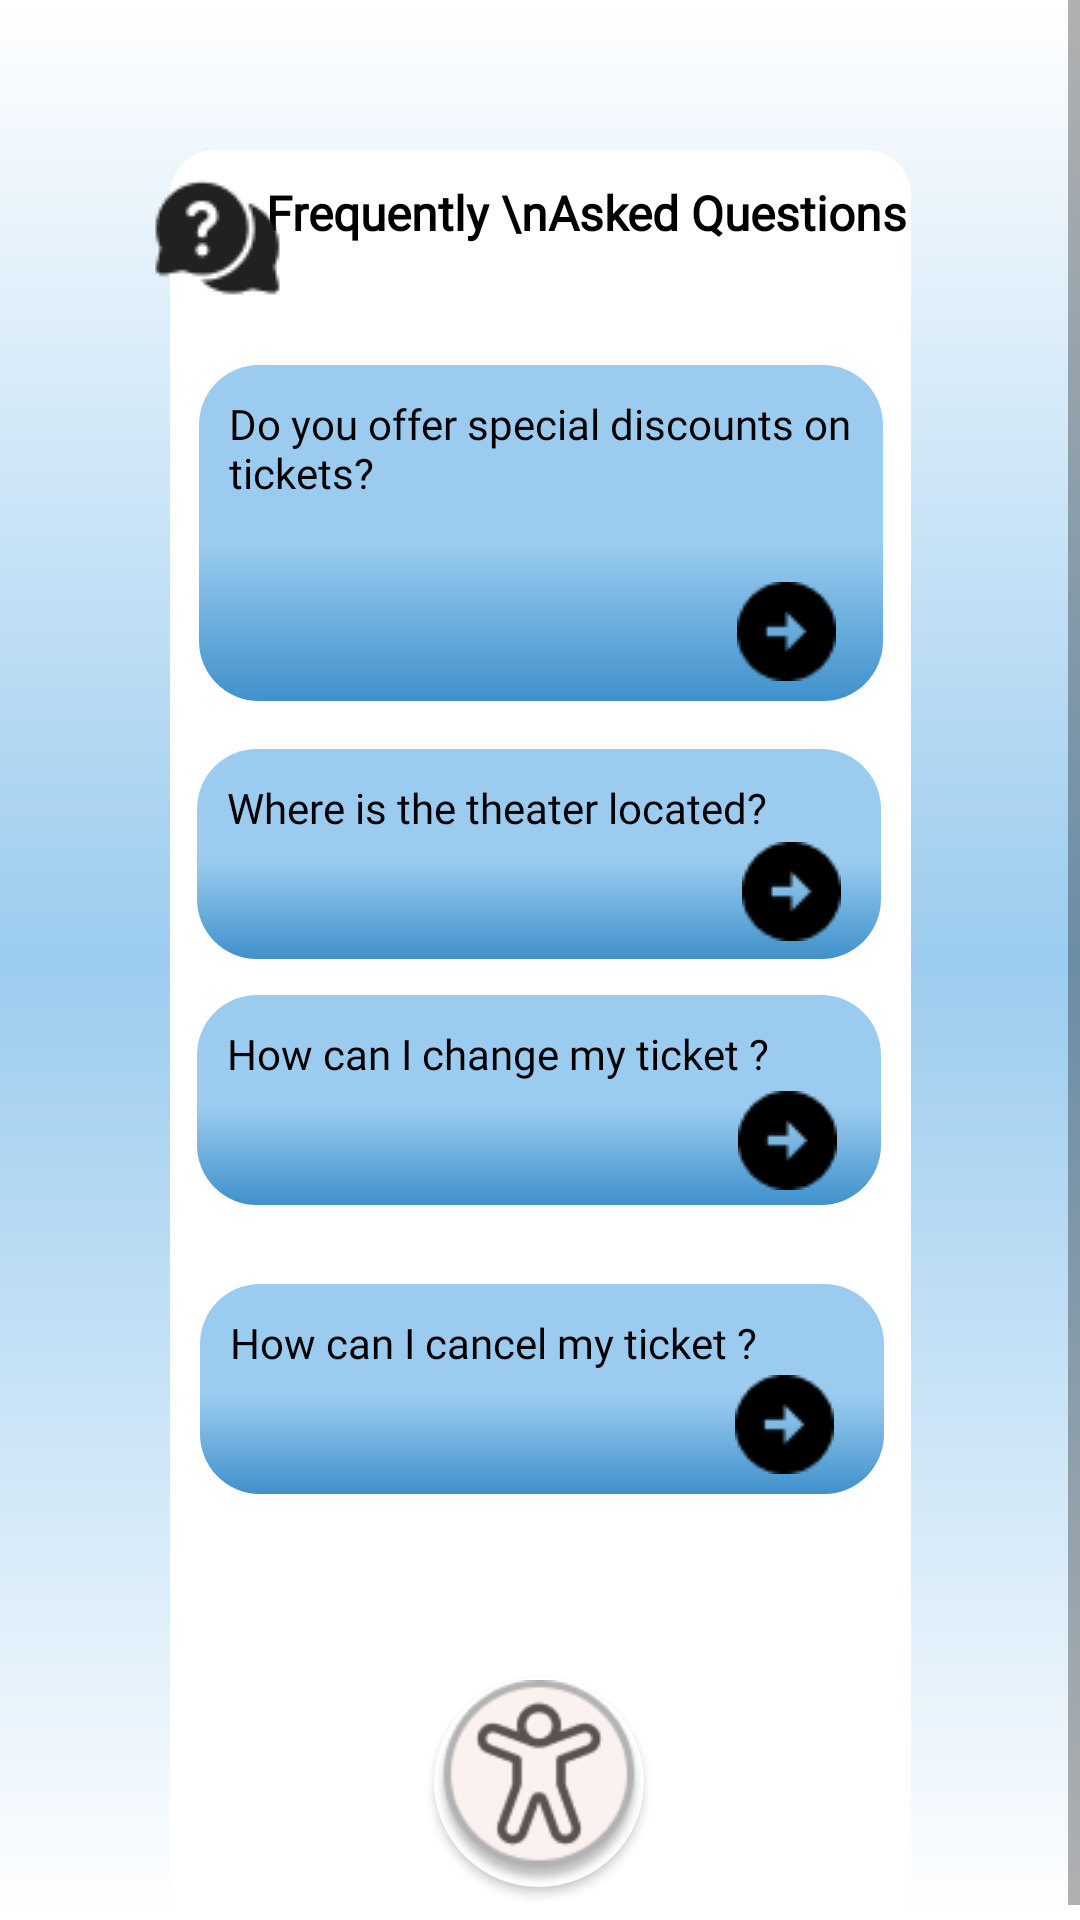

Icon click points for this 1080*1920 phone screenshot, format point (x, y):
bubble faq: point (217, 238)
faq arrow: point (786, 631), point (791, 891), point (787, 1140), point (784, 1424)
